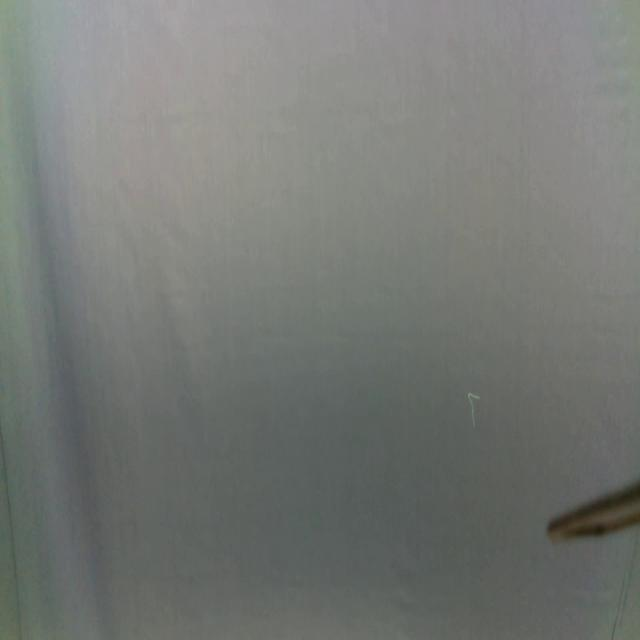crease: (0, 428, 20, 639), (608, 525, 639, 640)
